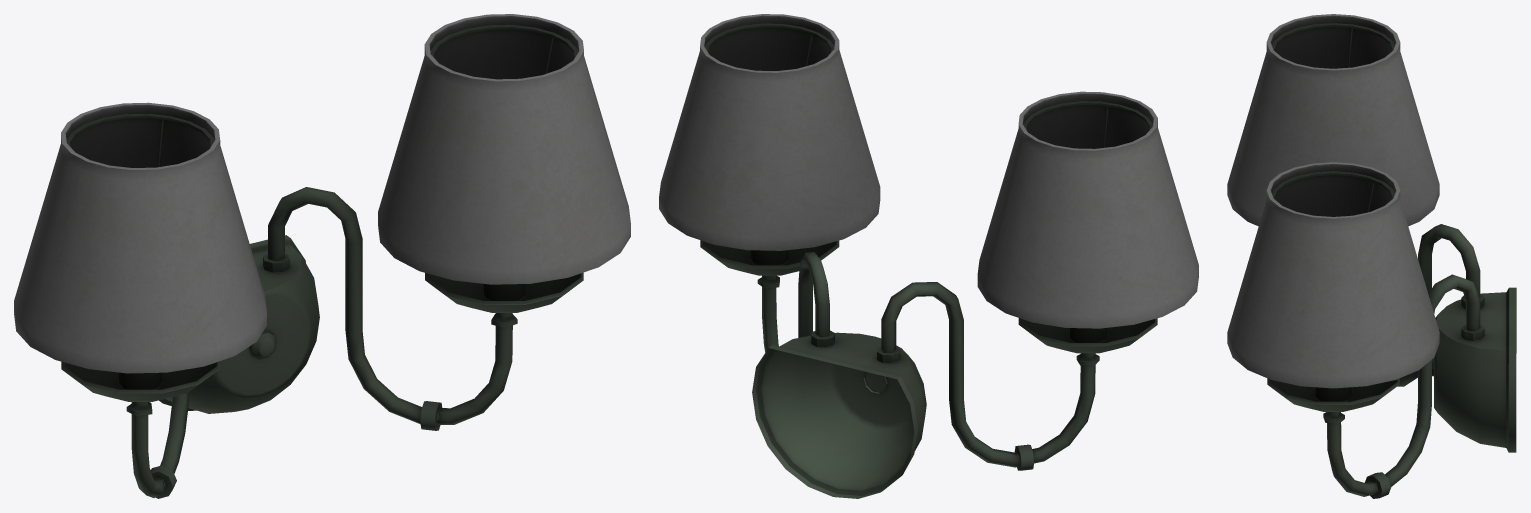
The model's file is Wall_Lamp_13.fbx.
The picture shows the model from 3 angles, left to right: view 1: azimuth 30°, elevation 25°; view 2: azimuth 150°, elevation 25°; view 3: azimuth 270°, elevation 25°; orthographic projection. The views are drawn at different scales.
Visible parts, largest first — view 1: Wall_Lamp_2; view 2: Wall_Lamp_2; view 3: Wall_Lamp_2.
Part boxes in pixels (x1,y1,x2,y2): Wall_Lamp_2: (14, 14, 630, 498); Wall_Lamp_2: (659, 14, 1198, 498); Wall_Lamp_2: (1227, 14, 1516, 498).
Size of the model in its own units: 98.41 by 63.37 by 50.56.
Materials: 1 (1 with a texture image).
